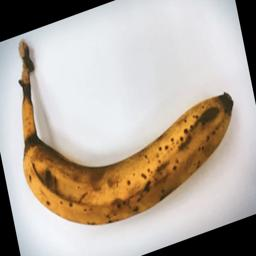Banana Semirotten: (5, 69, 256, 251)
